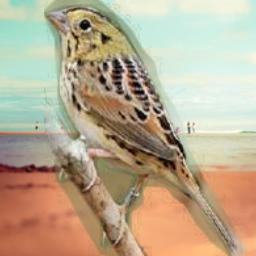Sparrow: (44, 0, 248, 256)
